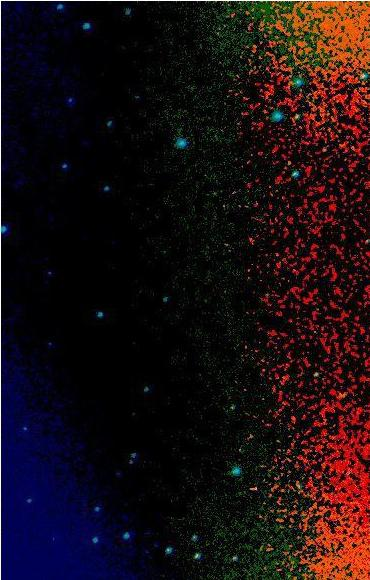star: (232, 476, 262, 506)
